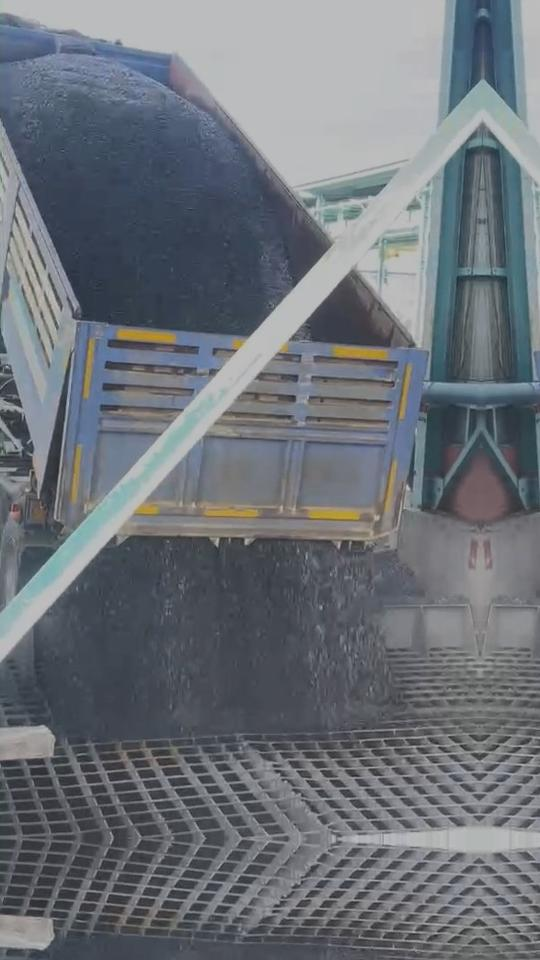gravel: (2, 55, 292, 332), (36, 540, 391, 739), (374, 552, 465, 605)
